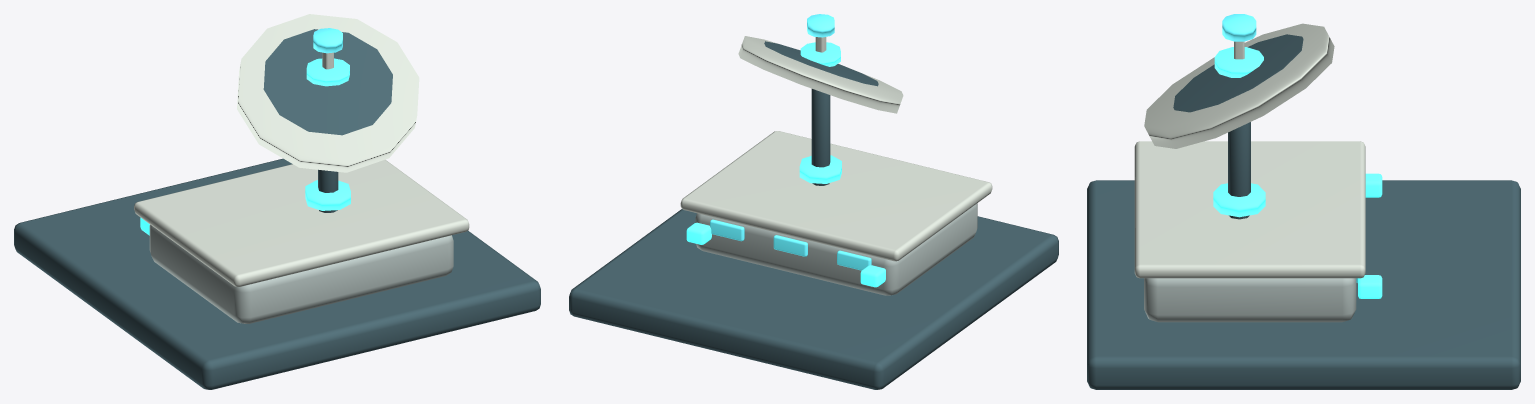
Rendered from radar-array.glb.
The picture shows the model from 3 angles, left to right: view 1: azimuth 30°, elevation 25°; view 2: azimuth 150°, elevation 25°; view 3: azimuth 270°, elevation 25°; orthographic projection. The views are drawn at different scales.
Visible parts, largest first — view 1: Radar base platform, Bunker roof, Faceted radar dish, Signal operations bunker, Dish inner face, Mast collar, Dish signal hub, Feed receiver, Antenna mast; view 2: Radar base platform, Bunker roof, Signal operations bunker, Faceted radar dish, Antenna mast, Dish inner face, Mast collar, Dish signal hub, Feed receiver, Radar screen.001, Radar screen.002, Radar screen (+2 smaller); view 3: Radar base platform, Bunker roof, Signal operations bunker, Faceted radar dish, Dish inner face, Antenna mast, Mast collar, Dish signal hub, Feed receiver, Bunker perimeter beacon.001, Bunker perimeter beacon.
Boxes of the visible parts, x1,y1,x2,y2 form: Radar base platform: [14, 158, 540, 389]; Bunker roof: [134, 159, 469, 286]; Faceted radar dish: [237, 14, 419, 172]; Signal operations bunker: [149, 224, 453, 323]; Dish inner face: [263, 29, 392, 135]; Mast collar: [305, 180, 350, 210]; Dish signal hub: [306, 58, 349, 86]; Feed receiver: [313, 28, 342, 53]; Antenna mast: [318, 169, 338, 212]; Radar base platform: [569, 209, 1058, 389]; Bunker roof: [680, 131, 992, 261]; Signal operations bunker: [695, 203, 977, 295]; Faceted radar dish: [738, 36, 903, 113]; Antenna mast: [811, 89, 830, 185]; Dish inner face: [764, 41, 878, 86]; Mast collar: [799, 155, 841, 183]; Dish signal hub: [800, 42, 840, 66]; Feed receiver: [807, 14, 834, 37]; Radar screen.001: [773, 235, 807, 256]; Radar screen.002: [710, 219, 744, 241]; Radar screen: [837, 250, 871, 270]; Radar base platform: [1087, 180, 1520, 389]; Bunker roof: [1134, 141, 1365, 278]; Signal operations bunker: [1144, 278, 1356, 322]; Faceted radar dish: [1144, 23, 1334, 148]; Dish inner face: [1173, 34, 1303, 112]; Antenna mast: [1228, 122, 1250, 219]; Mast collar: [1213, 183, 1265, 217]; Dish signal hub: [1214, 47, 1263, 77]; Feed receiver: [1222, 14, 1256, 41]; Bunker perimeter beacon.001: [1358, 275, 1382, 298]; Bunker perimeter beacon: [1365, 173, 1382, 197].
Bounding box in the file's own units: 2.82 × 2.1 × 2.82.
